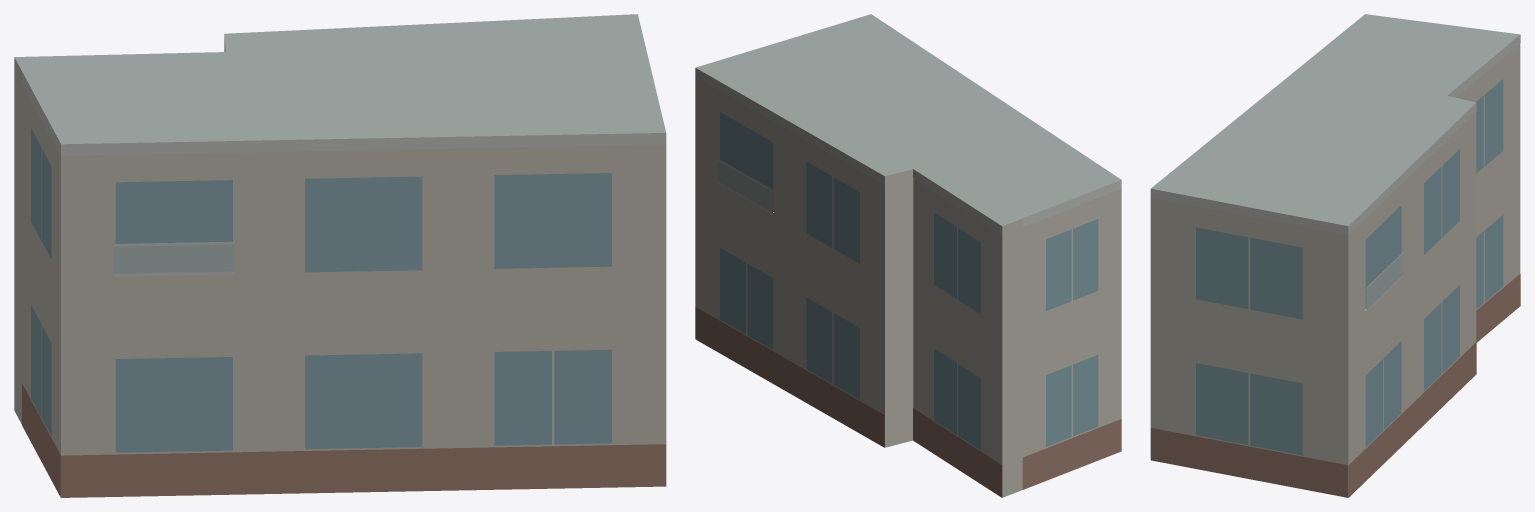
Rendered from survey-upis-32500802.glb.
3 views of the same model, side by side, from view 1: azimuth 30°, elevation 25°; view 2: azimuth 150°, elevation 25°; view 3: azimuth 270°, elevation 25° (orthographic). The views are drawn at different scales.
Parts seen in each view (by area): view 1: survey-upis-32500802.tmp; view 2: survey-upis-32500802.tmp; view 3: survey-upis-32500802.tmp.
Boxes of the visible parts, x1=… form: survey-upis-32500802.tmp: x1=14, y1=14, x2=666, y2=497; survey-upis-32500802.tmp: x1=695, y1=14, x2=1121, y2=497; survey-upis-32500802.tmp: x1=1150, y1=14, x2=1520, y2=497.
Bounding box in the file's own units: 12.41 × 7.4 × 9.14.
